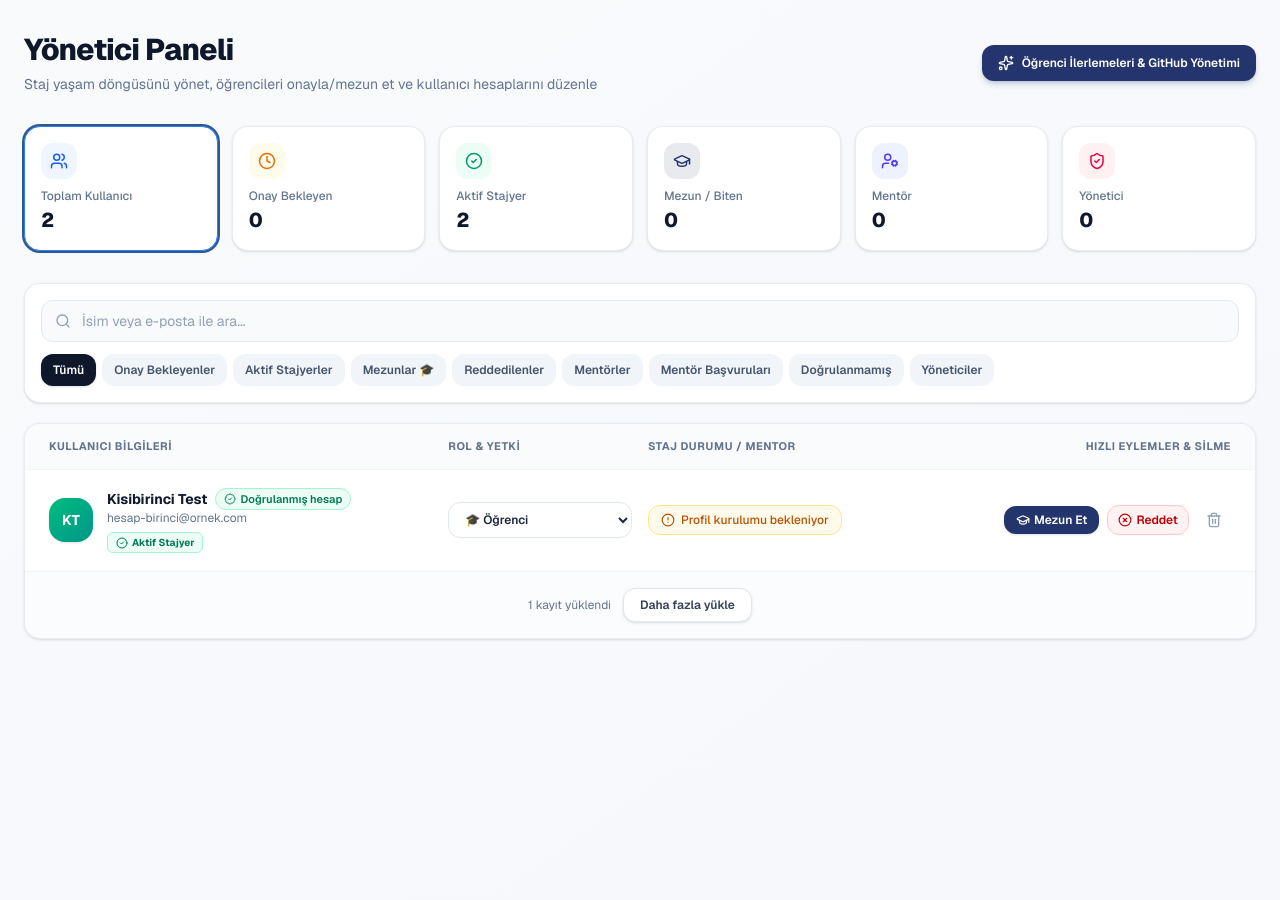
Test case: Admin dashboard — sayfalama ve sunucu araması › ⚠️ 'daha fazla yükle' listeyi UZATIR, sıfırlamaz
Click the button "Daha fazla yükle": (687,605) [623,588,752,622]
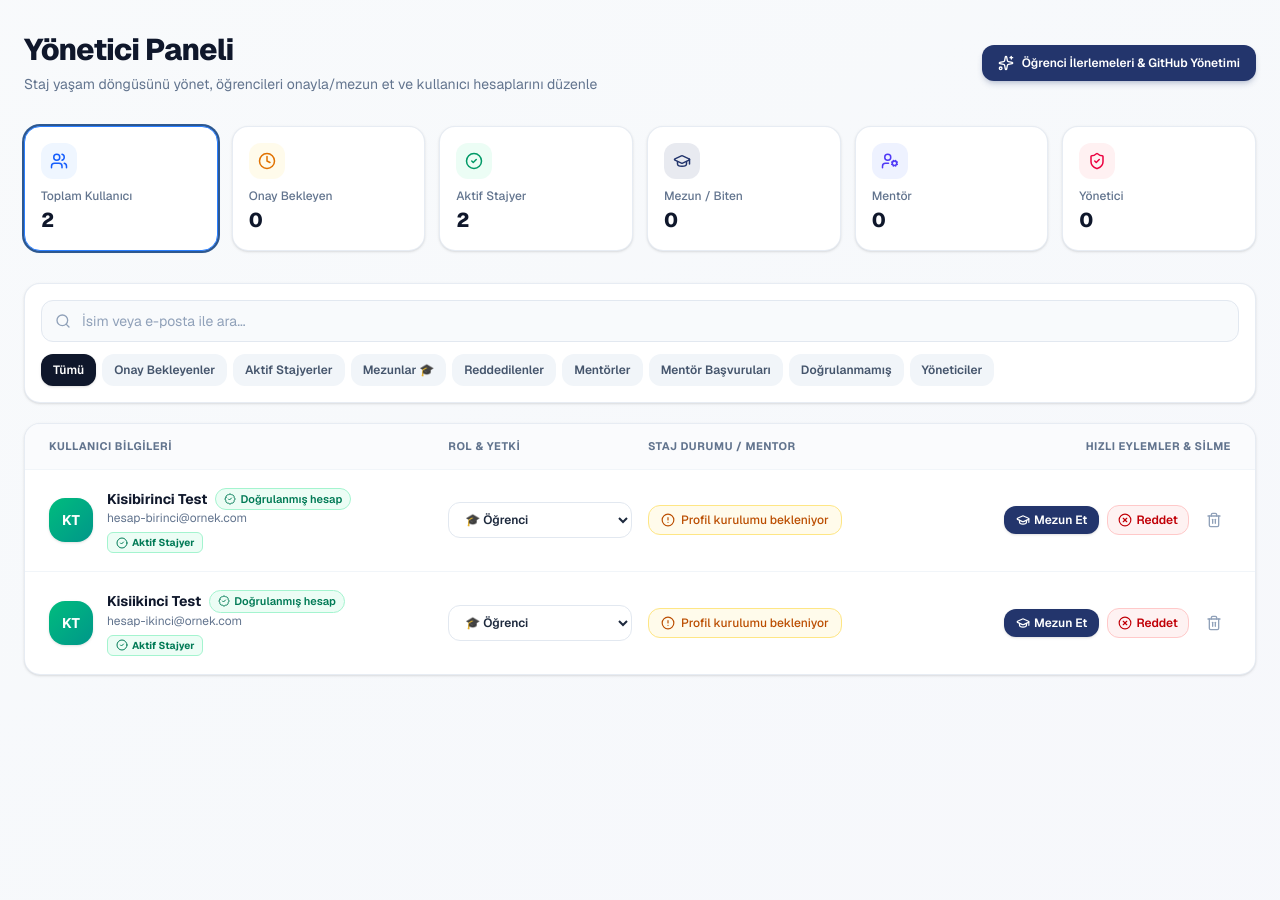
Expected: the text "Kisibirinci Test" is shown, [107,489,207,509]
Expected: the text "Kisiikinci Test" is shown, [107,591,201,611]
